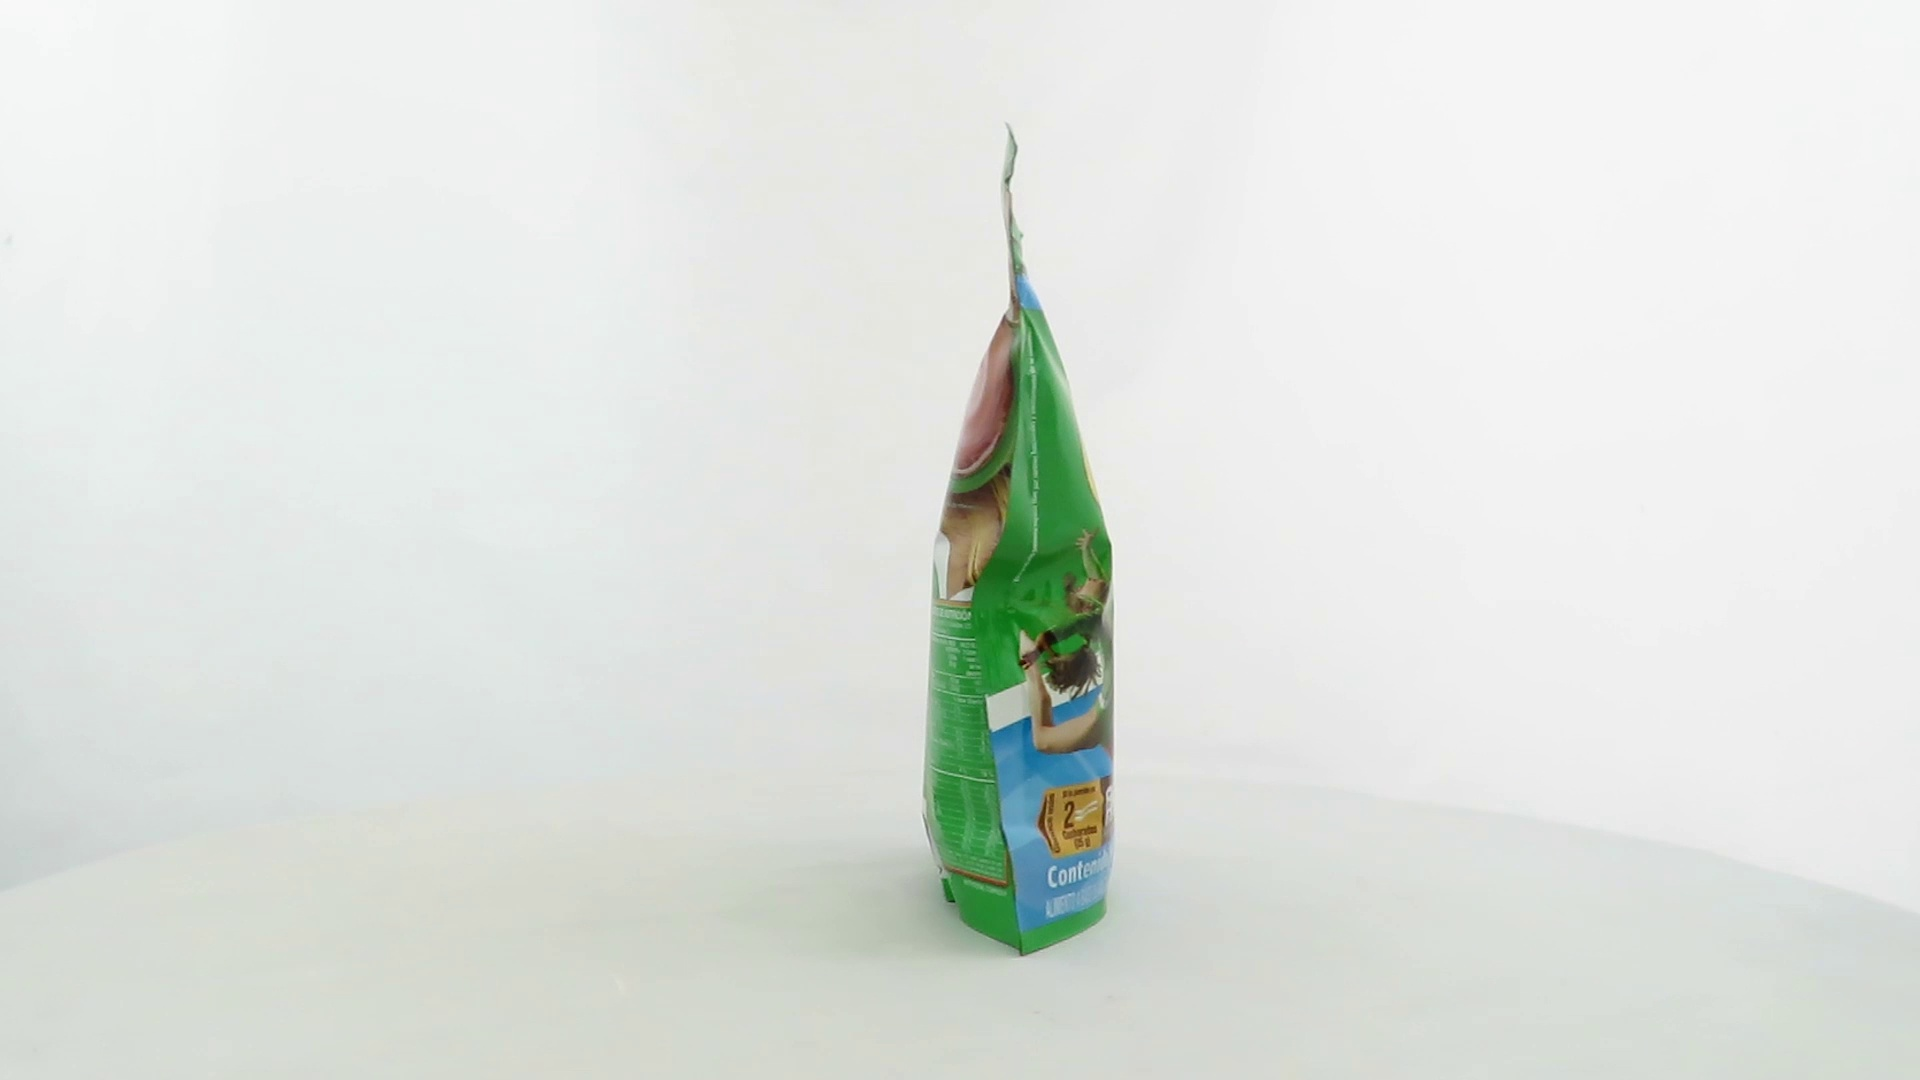COL0170205DYP20000: (911, 117, 1121, 965)
